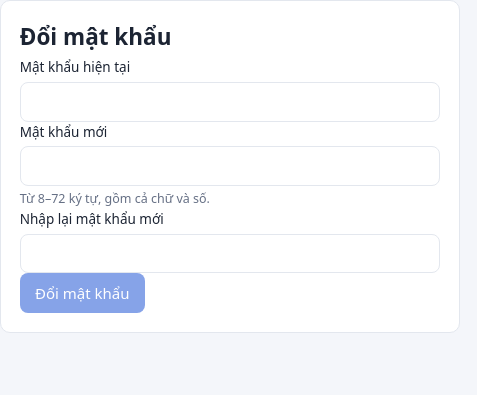
ChangePasswordPage › shows the server error
The image size is (477, 395).
Type "Matkhau123" into the password field labelled "Mật khẩu hiện tại" at (230, 102), box [20, 82, 440, 122]
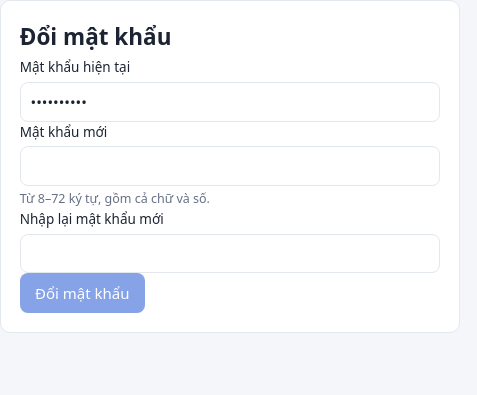
Type "MatKhauMoi456" into the password field labelled "Mật khẩu mới Từ 8–72 ký tự, gồm cả chữ và số." at (230, 166), box [20, 146, 440, 186]
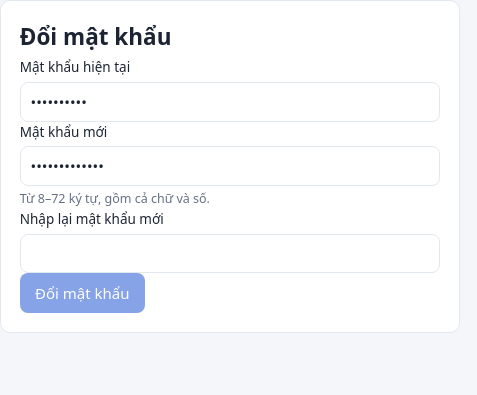
Type "MatKhauMoi456" into the password field labelled "Nhập lại mật khẩu mới" at (230, 254), box [20, 234, 440, 273]
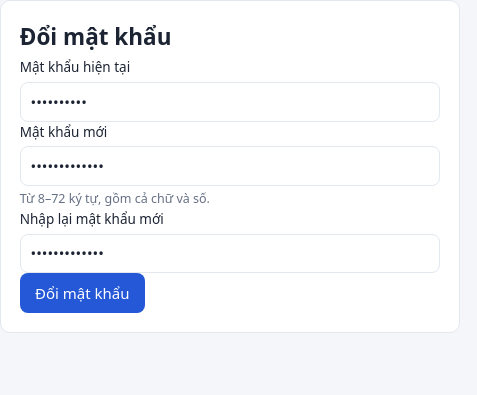
Click the button "Đổi mật khẩu" at (82, 293), box [20, 273, 145, 313]
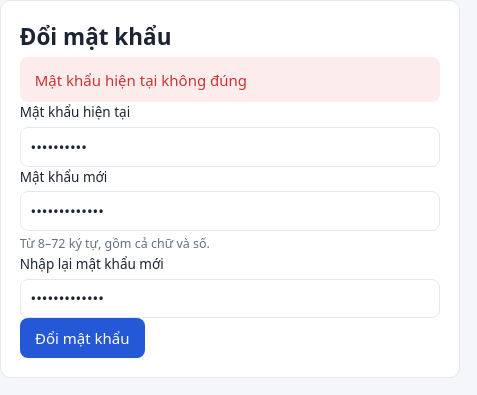
Expected: the message reads "Mật khẩu hiện tại không đúng", [35, 70, 247, 90]
